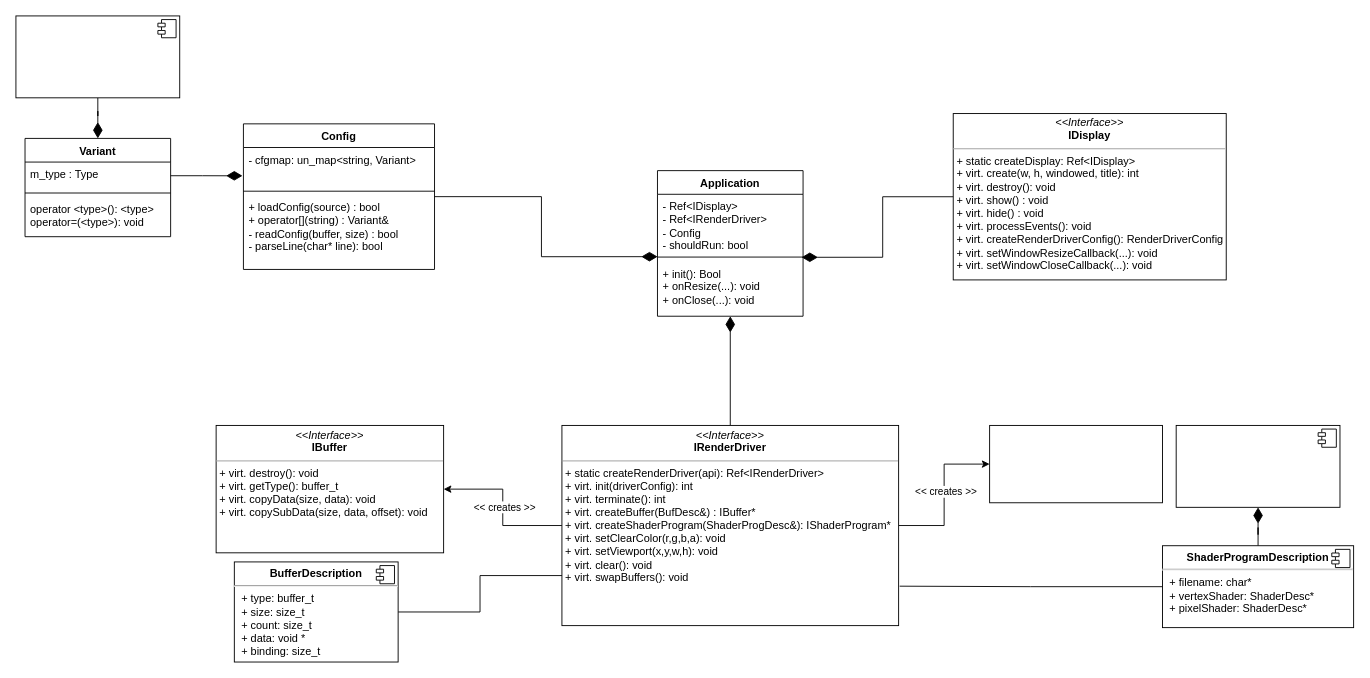
Some shapes in this 1370 by 678 pixel diagram are drawn without their labels. The shapes that lost their labels are listed below. From the top down, each one's centre as x and y in pixels, then its label:
At [97,56]: "Union - _int : int - _bool : bool".
At [1076,464]: "<<Interface>> IShaderProgram + set<Type>(name, data): void".
At [1257,466]: "ShaderDescription + type + function/sectionname: char *".
